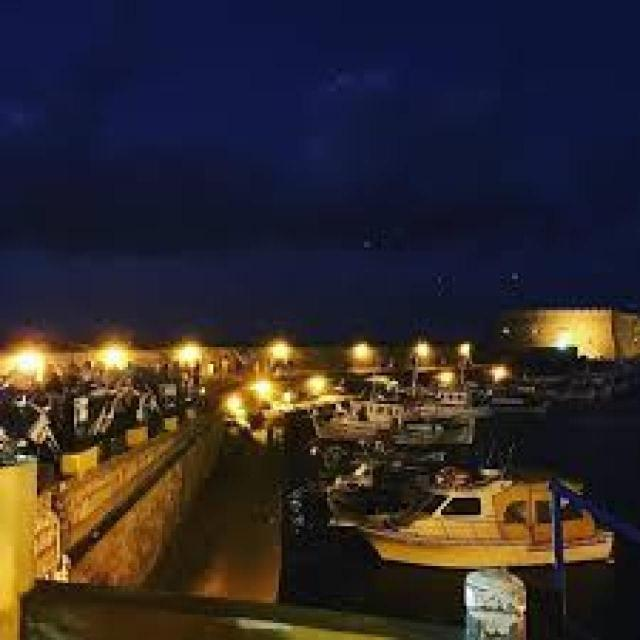Kules: (490, 306, 640, 364)
